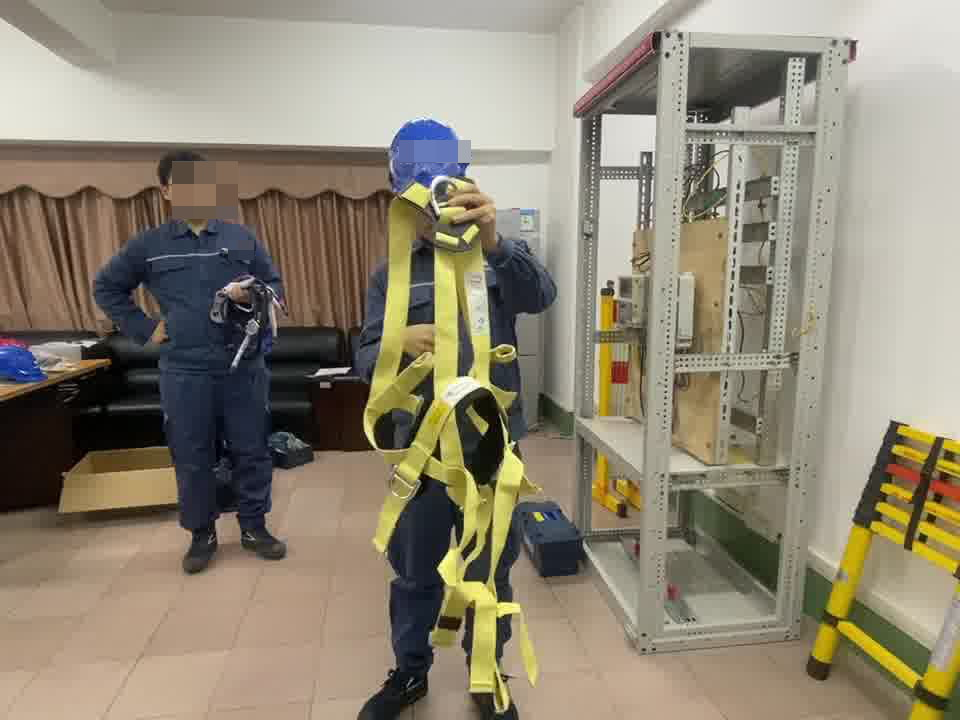downsuit: (387, 453, 522, 680), (158, 368, 276, 528)
halt: (389, 118, 478, 243)
hand: (448, 180, 498, 253), (400, 319, 442, 358), (149, 320, 172, 346), (229, 287, 252, 305)
person: (335, 117, 560, 720), (92, 147, 300, 577)
unhalt: (155, 146, 217, 219)
upsuit: (350, 235, 558, 456), (96, 217, 284, 370)
